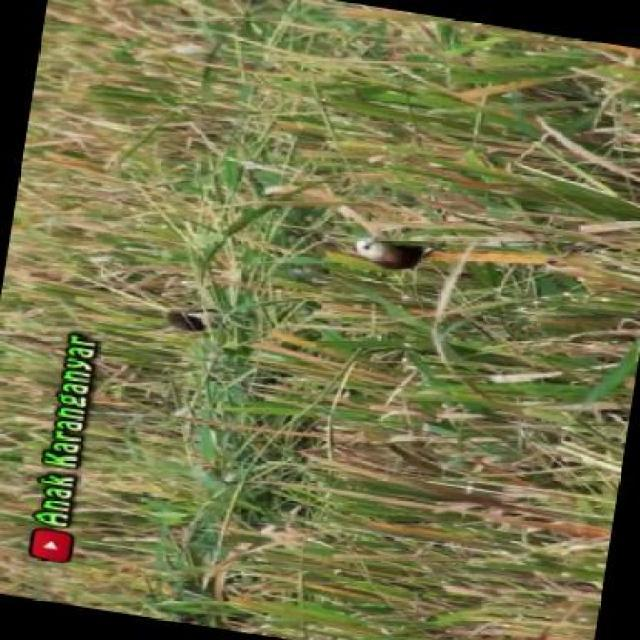Bird: (338, 227, 463, 306)
